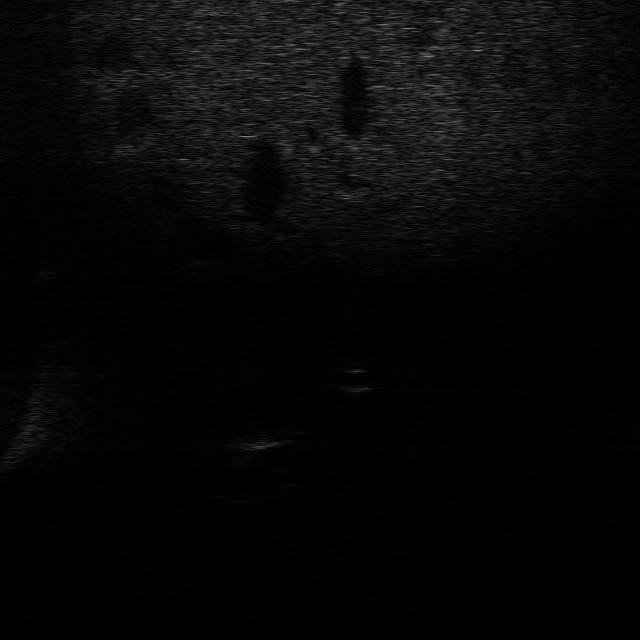ball: (325, 358, 381, 397)
square cage: (220, 422, 304, 460)
tyre: (200, 468, 302, 506)
